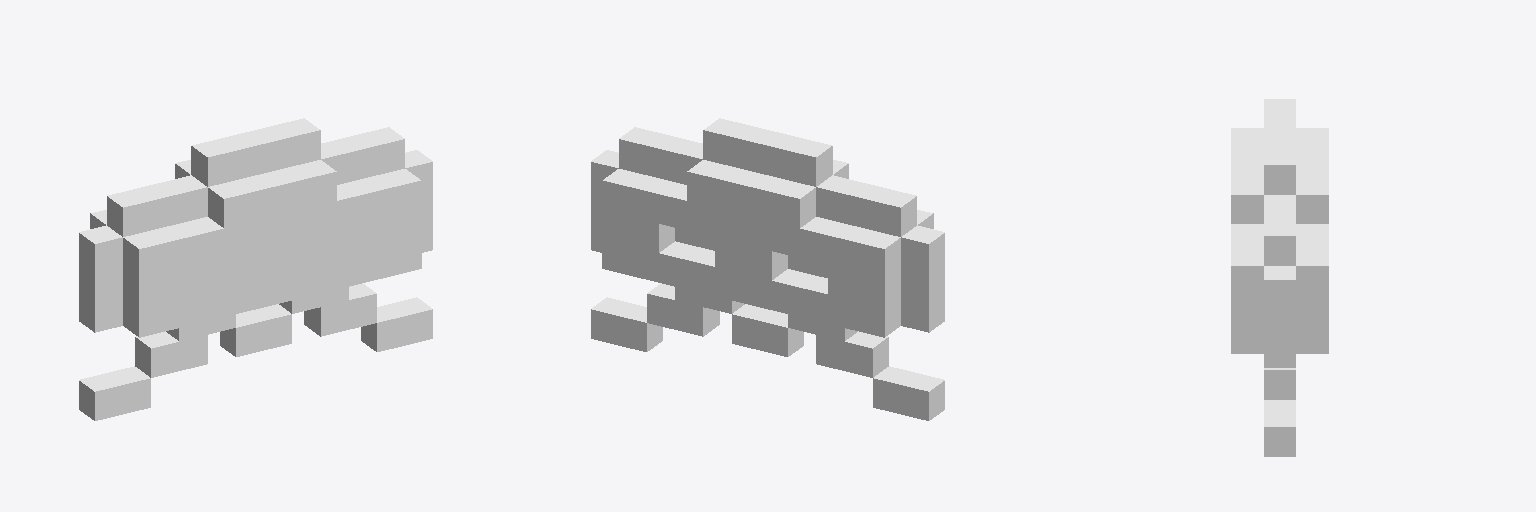
The model's file is enemy2_1.obj.
3 views of the same model, side by side, from view 1: azimuth 30°, elevation 25°; view 2: azimuth 150°, elevation 25°; view 3: azimuth 270°, elevation 25° (orthographic).
Visible parts, largest first — view 1: enemy2_1; view 2: enemy2_1; view 3: enemy2_1.
Part boxes in pixels (bbox=[...]): enemy2_1: bbox=[79, 118, 432, 420]; enemy2_1: bbox=[591, 118, 944, 420]; enemy2_1: bbox=[1231, 99, 1328, 456].
Bounding box in the file's own units: 12 × 8 × 3.